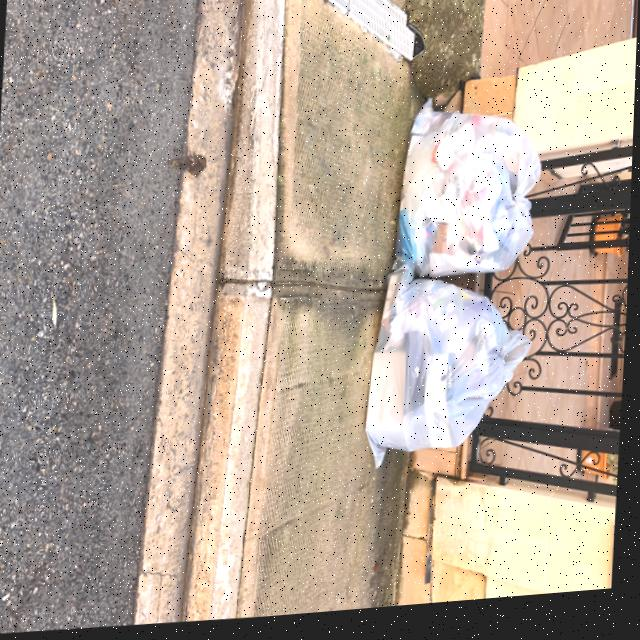Recycled Waste -Grey or Green Bag-: (365, 263, 538, 481), (394, 97, 546, 289)
